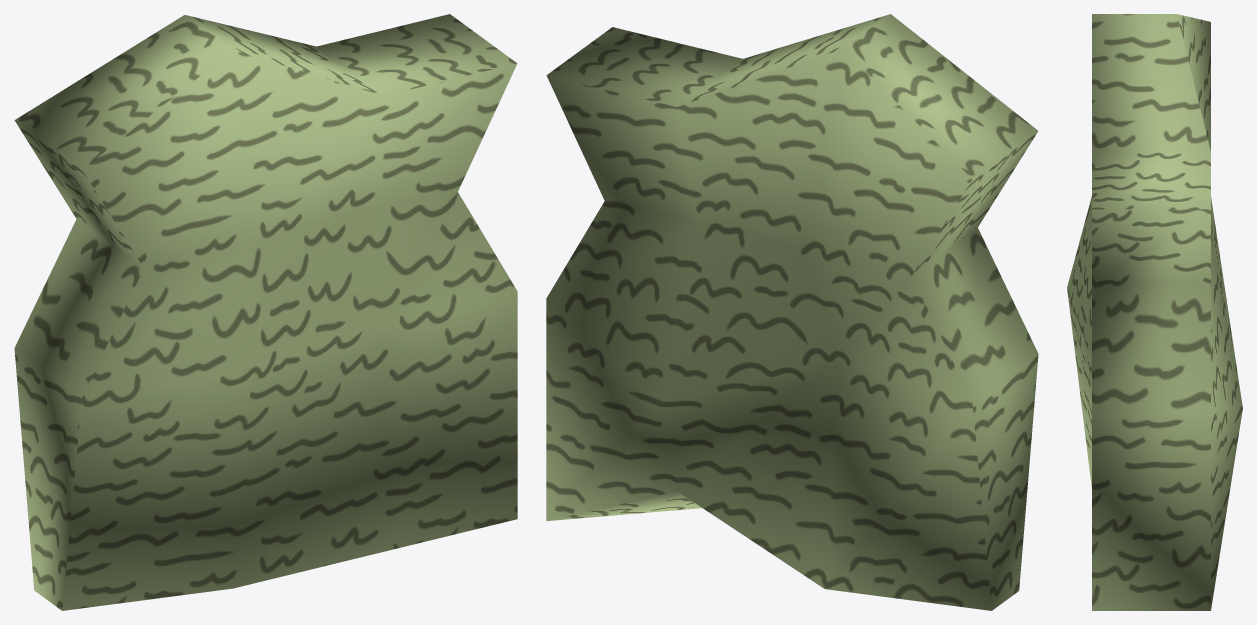
The model's file is item-bark-chip-carpet.glb.
The picture shows the model from 3 angles, left to right: view 1: azimuth 30°, elevation 25°; view 2: azimuth 150°, elevation 25°; view 3: azimuth 270°, elevation 25°; orthographic projection. The views are drawn at different scales.
Bounding box in the file's own units: 2 × 2.36 × 0.7938.
Materials: 1 (1 with a texture image).
